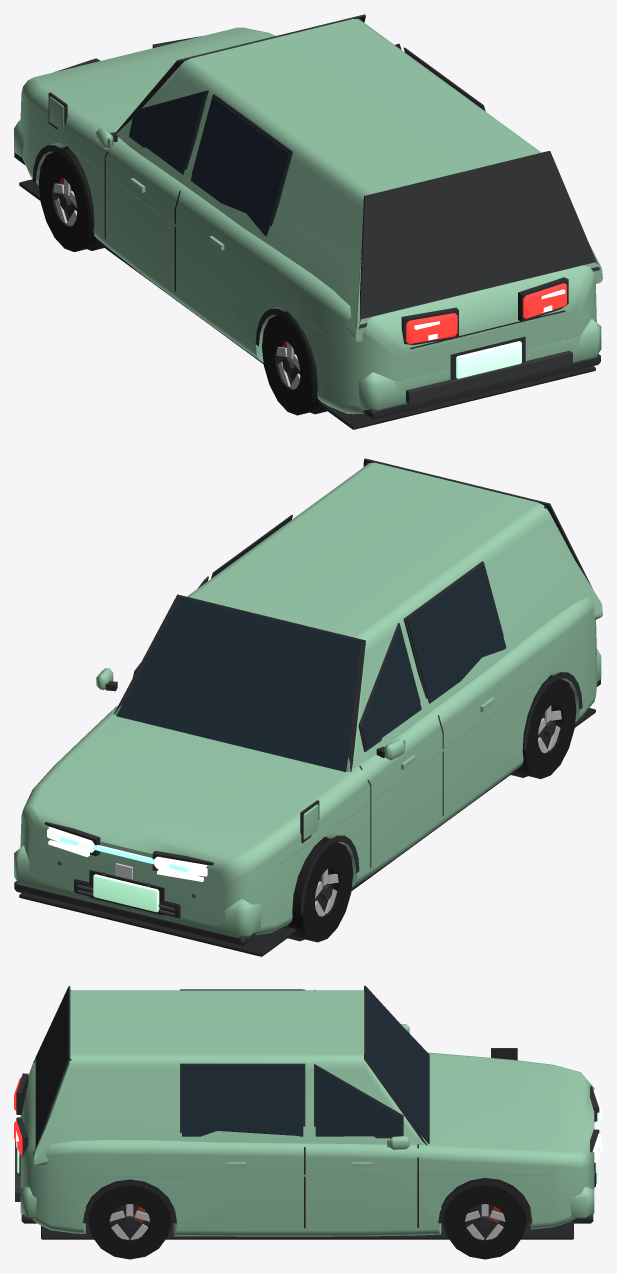
The model's file is car_nev_hatch_green.glb.
3 views of the same model, one above another, from view 1: azimuth 30°, elevation 25°; view 2: azimuth 150°, elevation 25°; view 3: azimuth 270°, elevation 25° (orthographic). The views are drawn at different scales.
Parts seen in each view (by area): view 1: Body, Trim, Glass, Wheel_FL, Wheel_RL, Lights, Plate_R; view 2: Body, Glass, Trim, Wheel_FL, Wheel_RL, Lights, Plate_F; view 3: Body, Glass, Trim, Wheel_FR, Wheel_RR, Lights.
Part boxes in pixels (x1,y1,x2,y2): Body: (14,18,602,414); Trim: (14,14,600,429); Glass: (107,18,361,236); Wheel_FL: (38,148,98,251); Wheel_RL: (262,312,322,415); Lights: (406,283,566,343); Plate_R: (456,341,521,378); Body: (14,462,602,937); Glass: (109,462,547,771); Trim: (14,458,600,956); Wheel_FL: (287,838,353,942); Wheel_RL: (516,676,576,778); Lights: (47,826,207,881); Plate_F: (93,874,159,912); Body: (20,990,594,1236); Glass: (65,988,429,1147); Trim: (15,985,600,1239); Wheel_FR: (444,1178,526,1259); Wheel_RR: (89,1179,170,1259); Lights: (14,1077,602,1162).
Bounding box in the file's own units: 2.04 × 1.52 × 4.31.
